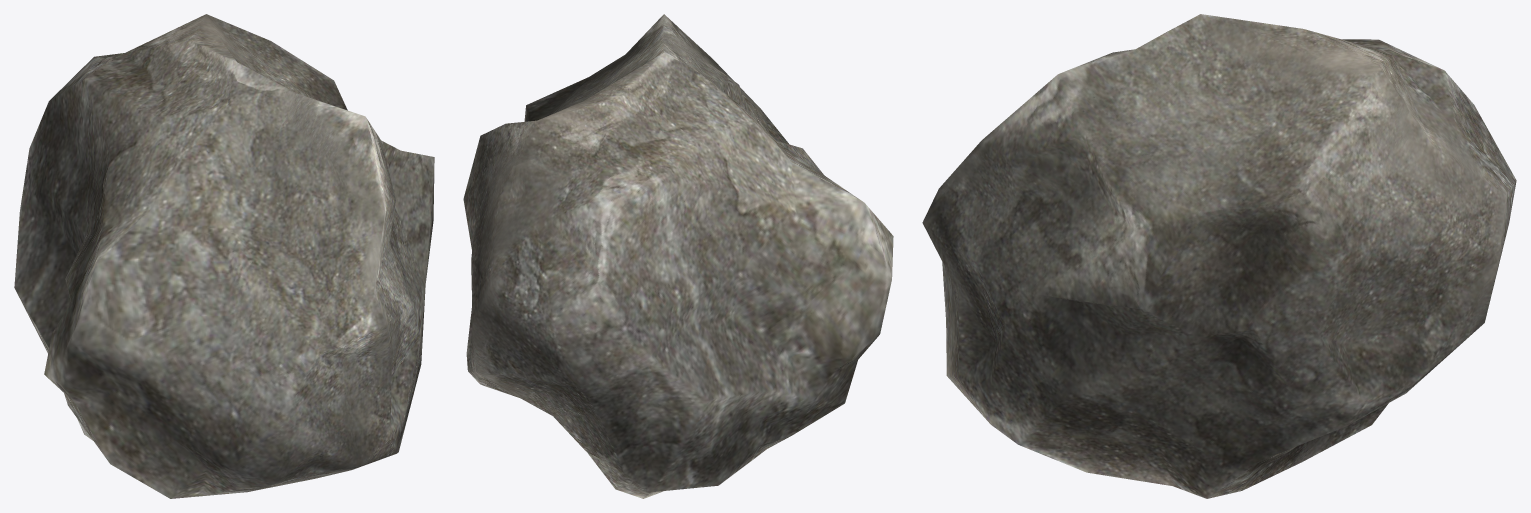
File: rock.fbx
3 views of the same model, side by side, from view 1: azimuth 30°, elevation 25°; view 2: azimuth 150°, elevation 25°; view 3: azimuth 270°, elevation 25° (orthographic). The views are drawn at different scales.
Visible parts, largest first — view 1: Stein_low_polyStein(1).005; view 2: Stein_low_polyStein(1).005; view 3: Stein_low_polyStein(1).005.
Part boxes in pixels (x1,y1,x2,y2): Stein_low_polyStein(1).005: (14,14,434,498); Stein_low_polyStein(1).005: (463,14,893,498); Stein_low_polyStein(1).005: (922,14,1516,498).
Bounding box in the file's own units: 177 × 183 × 221.
